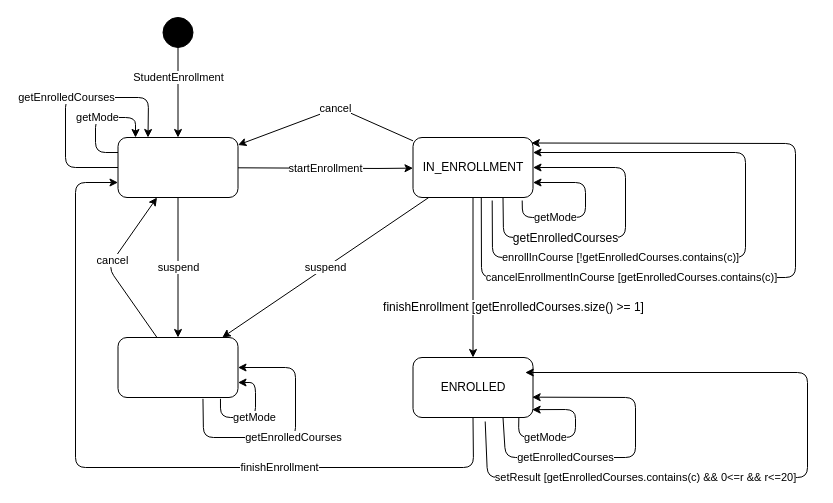
Image size: 833x503. Some labels were removed from this diagram. The shapes that lost their labels are listed below. From the top down, each one's centre as x and y in pixels, then its label:
(x=177, y=167): NOT_ENROLLED
(x=177, y=367): SUSPENDED
